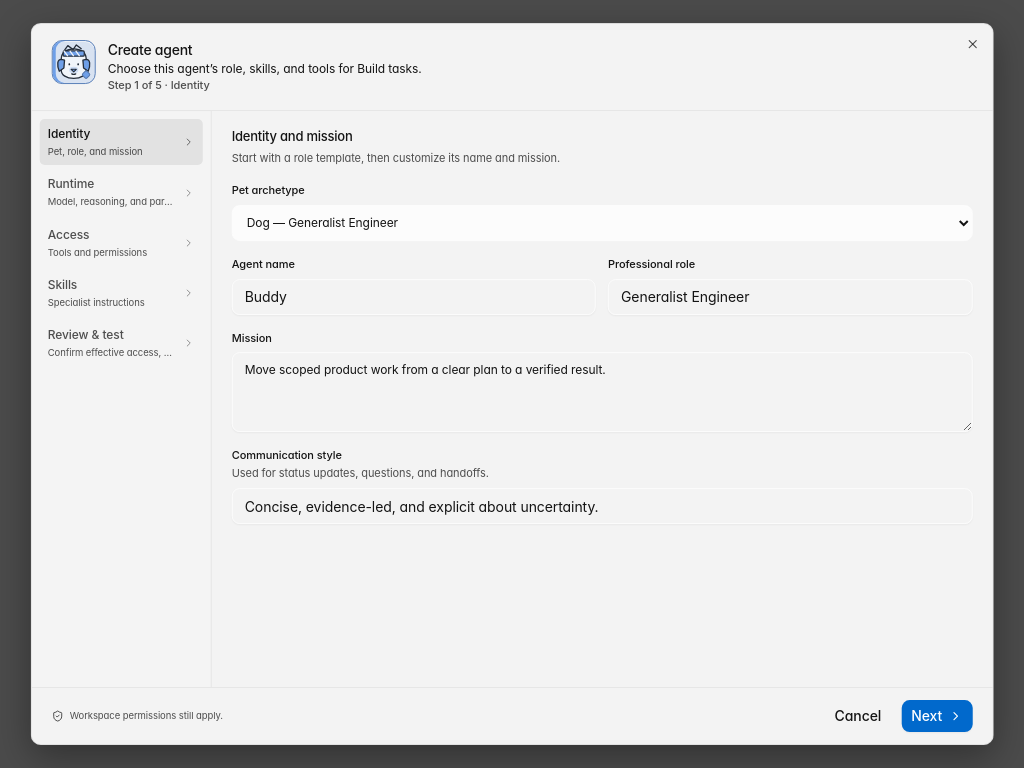
Test: Agent creation: a guided five-step flow › walks forward and back through the steps
Expected: the button "Back" is not shown
Click the button "Next" at point(937, 716), box [901,700,972,732]
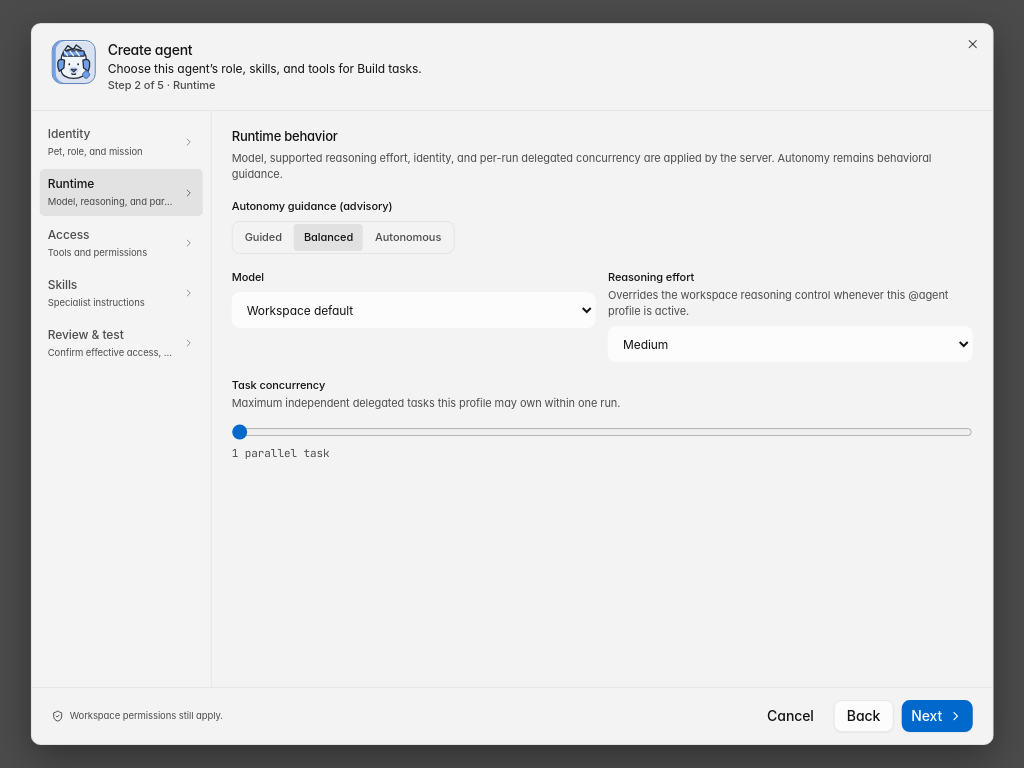
Result: the text "Step 2 of 5 · Runtime" is shown at [108,78,215,92]
Click the button "Back" at point(864, 716), box [834,700,893,732]
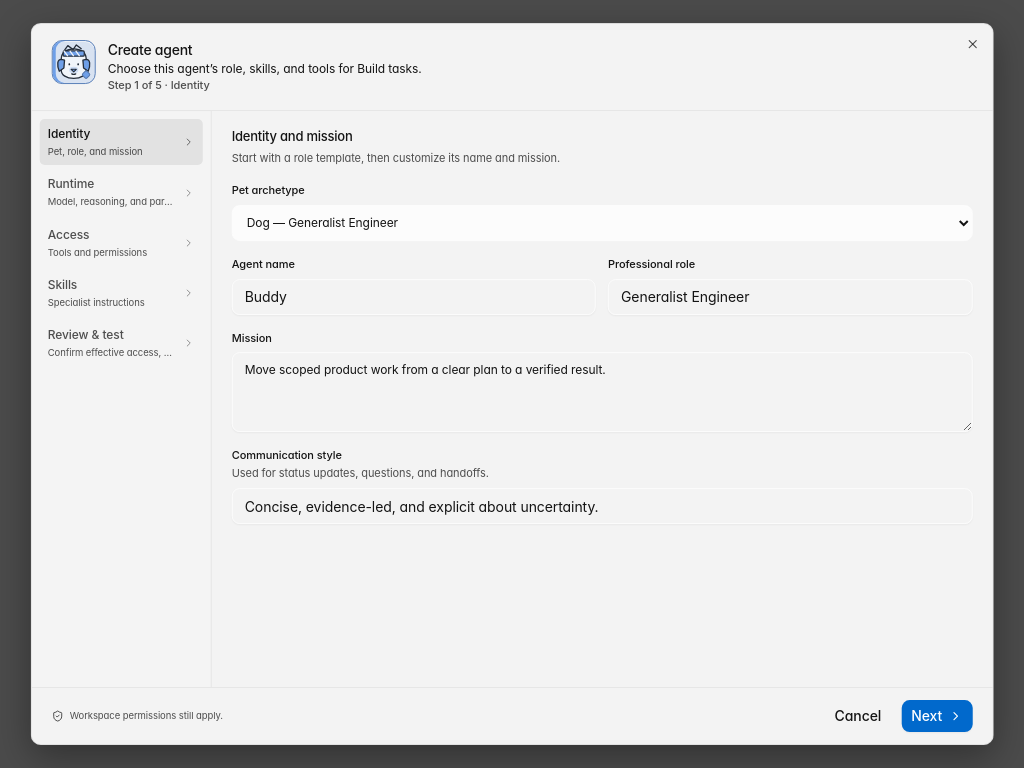
Result: the text "Step 1 of 5 · Identity" is shown at [108,78,210,92]
